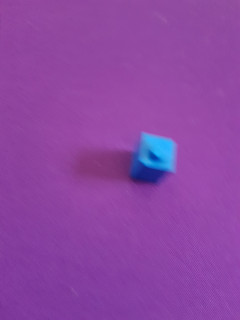1x1 blue: (129, 131, 178, 185)
